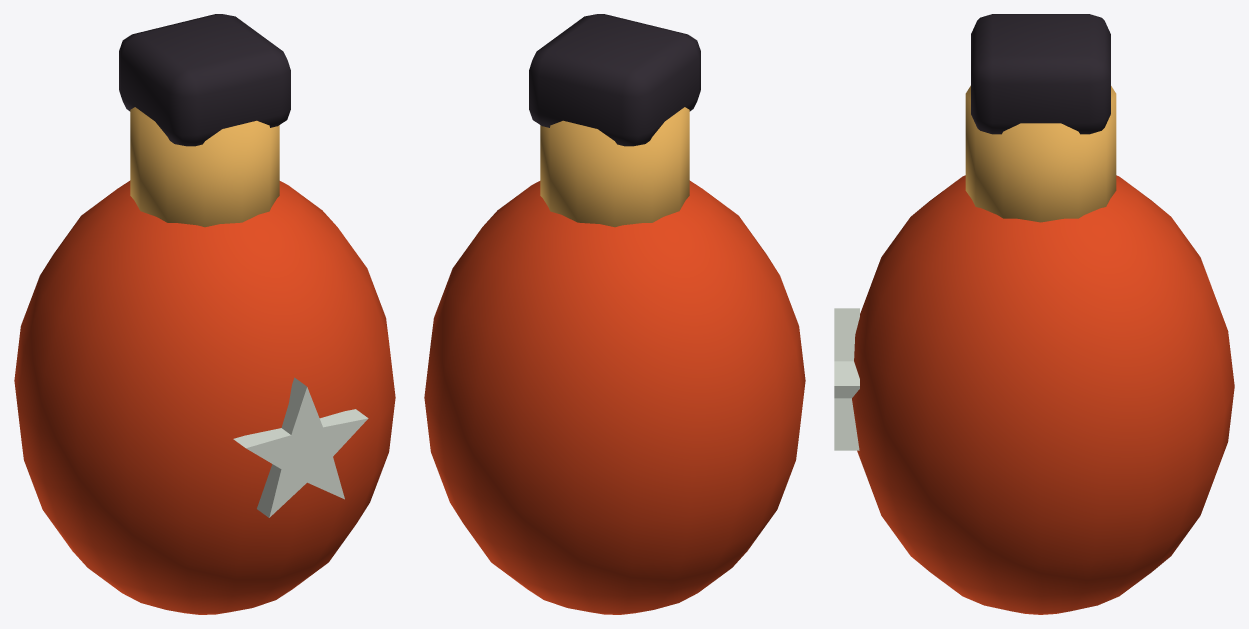
File: loot-2-refined-v15.fbx
3 views of the same model, side by side, from view 1: azimuth 30°, elevation 25°; view 2: azimuth 150°, elevation 25°; view 3: azimuth 270°, elevation 25° (orthographic).
Parts seen in each view (by area): view 1: PotionFlask, BottleStopper, BottleNeck, HealingSigil; view 2: PotionFlask, BottleStopper, BottleNeck; view 3: PotionFlask, BottleStopper, BottleNeck, HealingSigil.
Boxes of the visible parts, box(x1,y1,x2,y2) form: PotionFlask: box(14, 180, 395, 614); BottleStopper: box(119, 14, 290, 146); BottleNeck: box(130, 107, 279, 227); HealingSigil: box(233, 377, 368, 517); PotionFlask: box(424, 180, 805, 614); BottleStopper: box(529, 14, 700, 146); BottleNeck: box(540, 107, 689, 227); PotionFlask: box(852, 175, 1234, 614); BottleStopper: box(971, 14, 1110, 134); BottleNeck: box(965, 85, 1116, 222); HealingSigil: box(834, 308, 859, 450).
Size of the model in its own units: 36 by 58 by 37.2.
